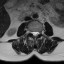CCS_normal: (34, 29, 36, 38)
LFS_normal: (39, 29, 41, 35)
LLS_normal: (36, 29, 39, 37)
RFS_normal: (30, 28, 32, 35)
RLS_normal: (32, 29, 34, 37)
